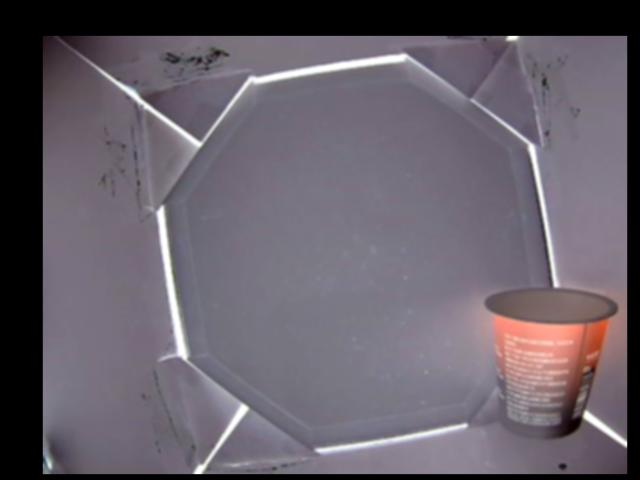Cup: (483, 285, 619, 439)
